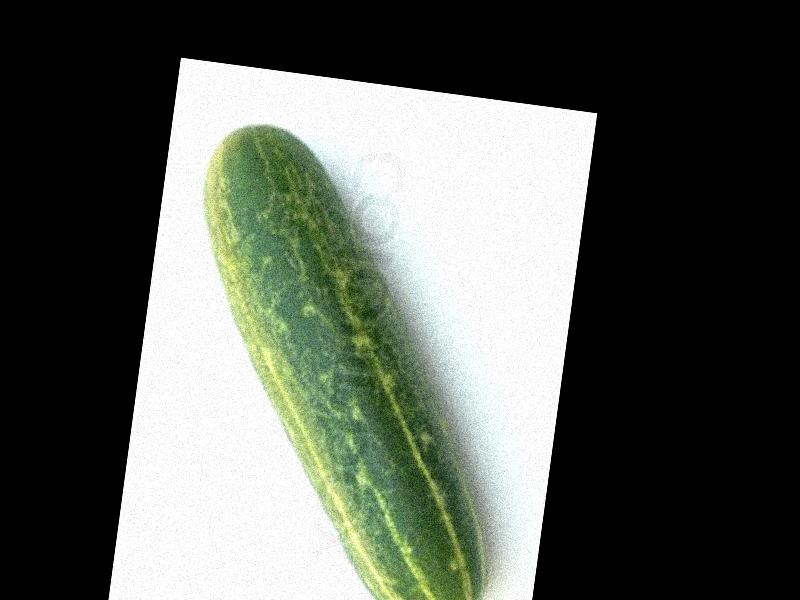Cucumber: (146, 119, 540, 600)
